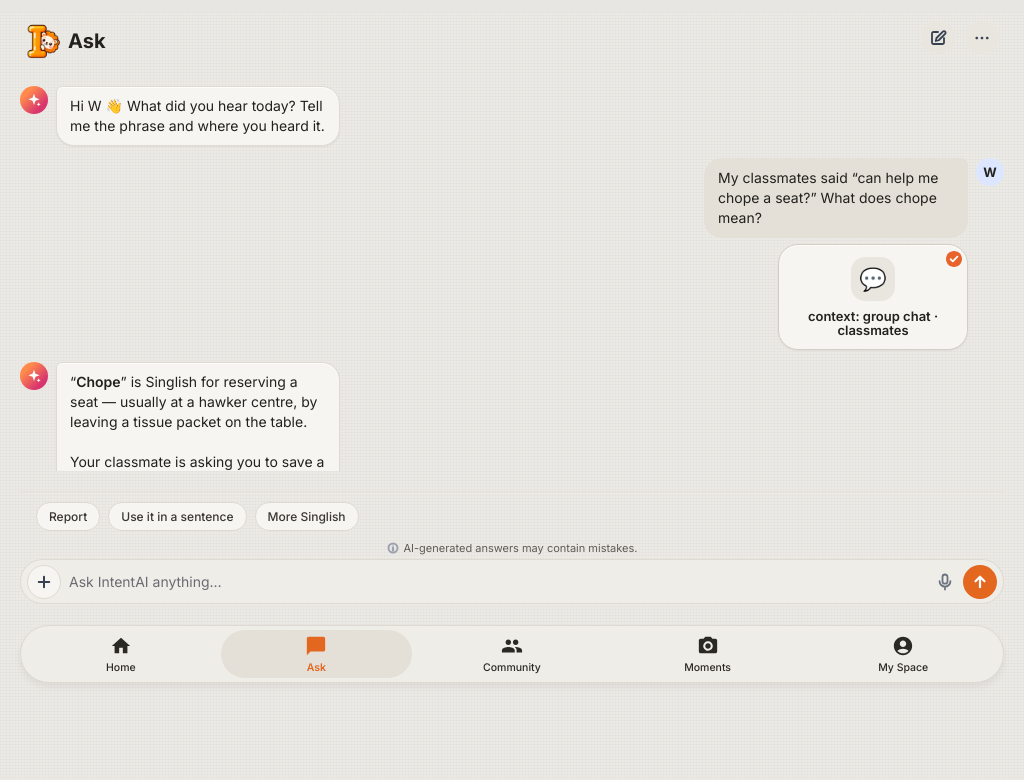
it: Send submits too; an unknown phrase is answered honestly and not saved
The image size is (1024, 780).
Type "What does shiok mean?" into the field labelled "Ask IntentAI anything…".
click(498, 582); type("What does shiok mean?")  # box [69,560,927,603]
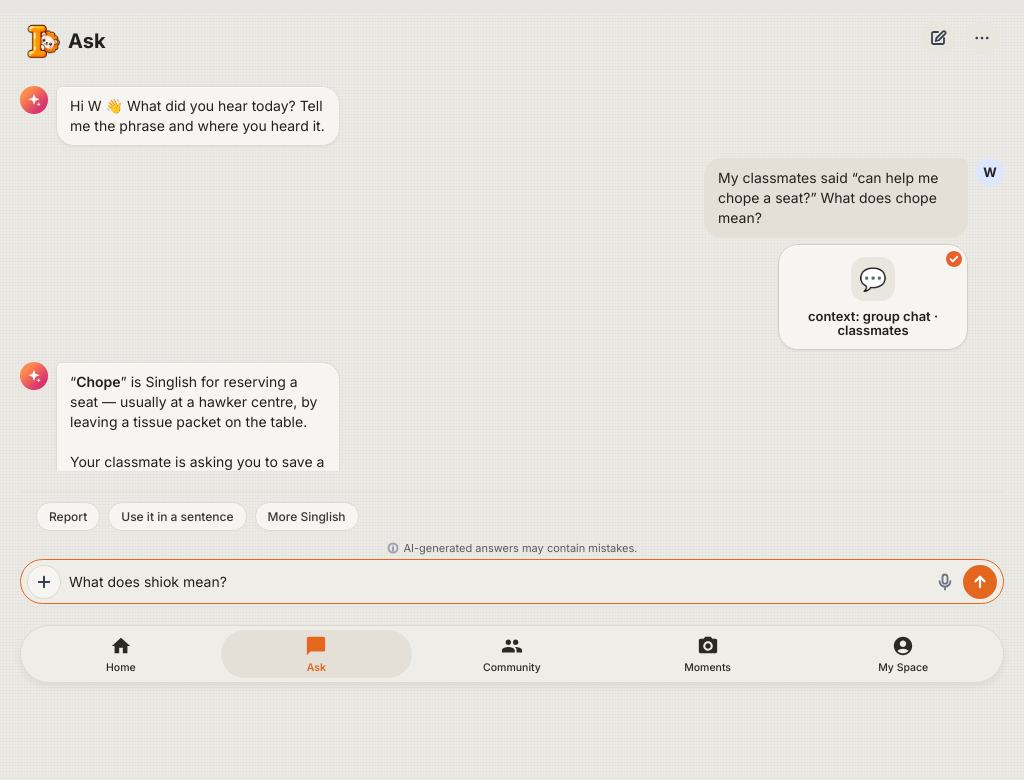
Click the button named "Send".
click(980, 582)  # box [963,564,997,598]
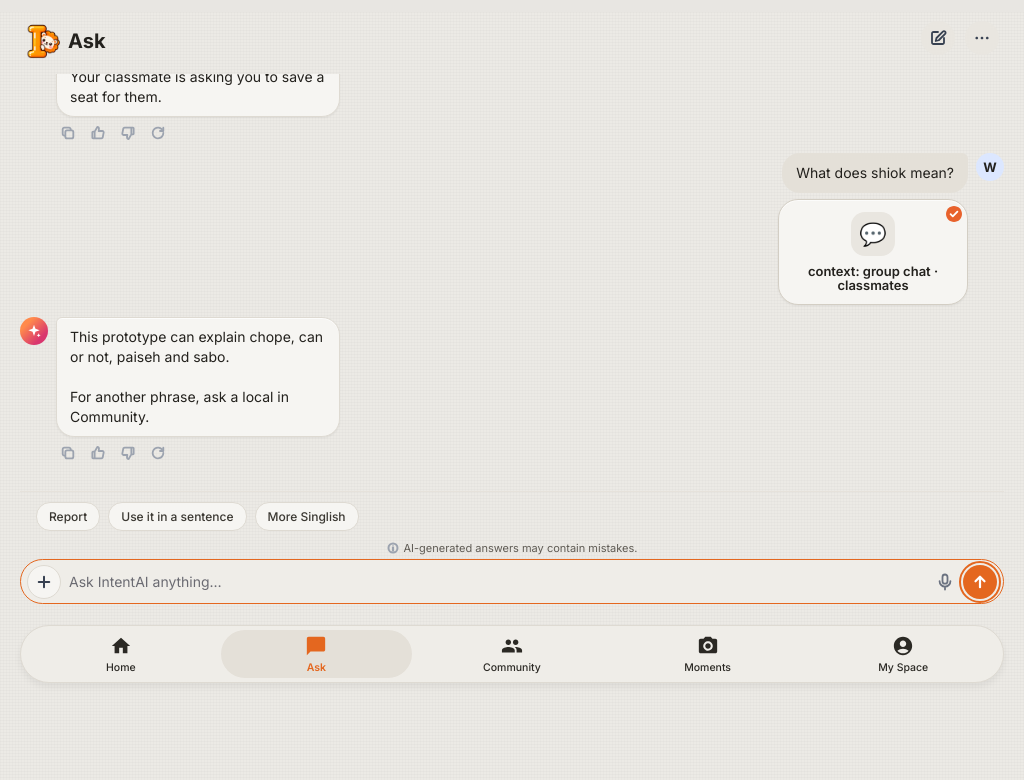
Check: the element named "IntentAI answer" shows "This prototype can explain chope, can or not, paiseh and sabo.", box [70,328,323,365]
